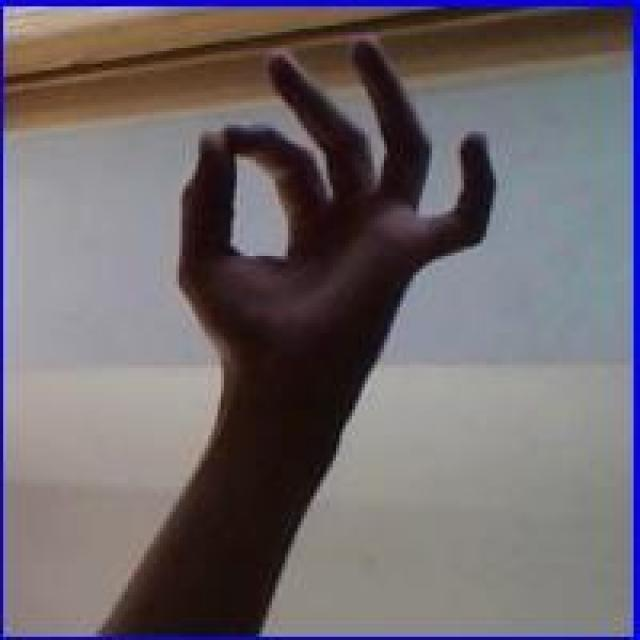F: (173, 29, 499, 371)
